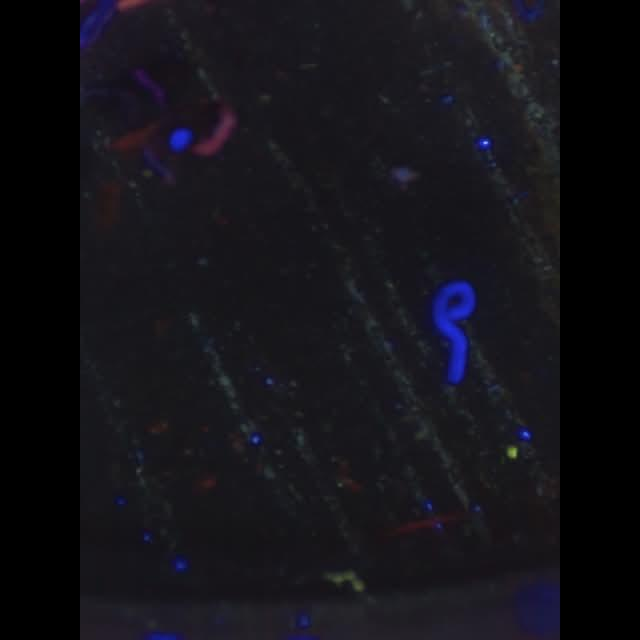Fibre: (324, 568, 364, 592)
microbeads: (504, 442, 520, 458)
